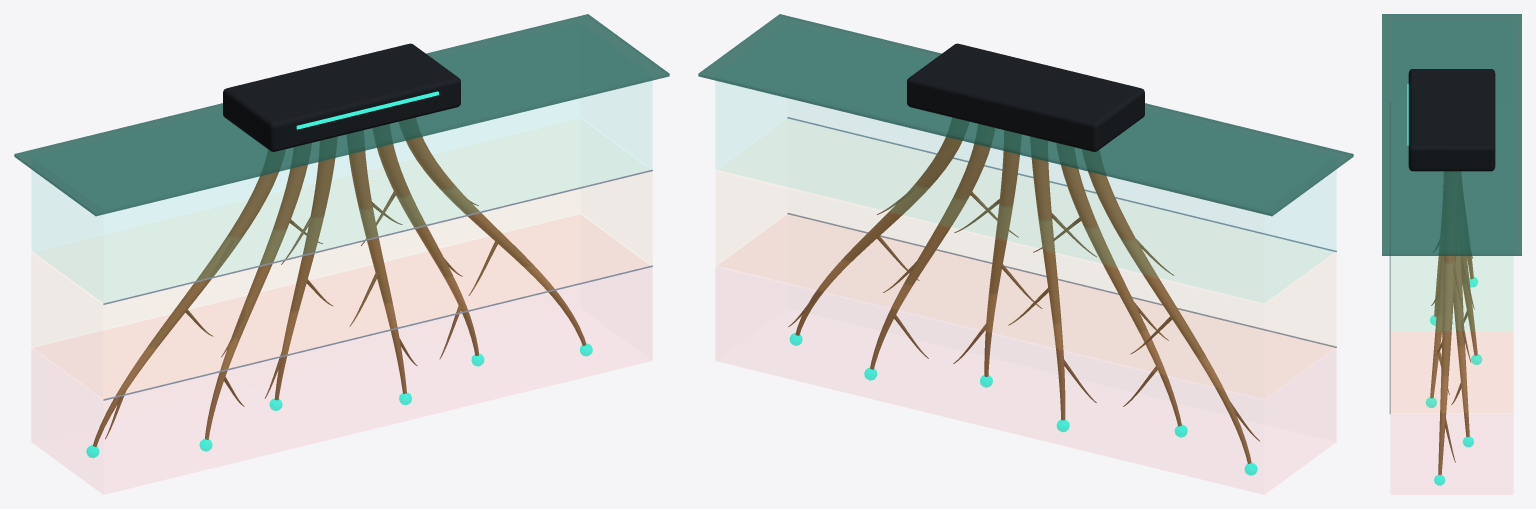
File: roots.glb
3 views of the same model, side by side, from view 1: azimuth 30°, elevation 25°; view 2: azimuth 150°, elevation 25°; view 3: azimuth 270°, elevation 25° (orthographic). The views are drawn at different scales.
Parts seen in each view (by area): view 1: Soil_Surface, Machine_Plinth, Root_00, Root_01, Root_05, Root_03, Root_02, Root_04, Soil_Line_02, Soil_Line_01; view 2: Soil_Surface, Machine_Plinth, Root_00, Root_01, Root_02, Root_04, Root_05, Root_03, Soil_Line_02, Soil_Line_01; view 3: Soil_Surface, Machine_Plinth, Root_05, Root_04, Root_03, Root_02, Root_00, Root_01.
Boxes of the visible parts, x1=… form: Soil_Surface: x1=14, y1=14, x2=669, y2=216; Machine_Plinth: x1=223, y1=43, x2=460, y2=151; Root_00: x1=93, y1=150, x2=284, y2=446; Root_01: x1=205, y1=143, x2=311, y2=439; Root_05: x1=399, y1=118, x2=586, y2=345; Root_03: x1=347, y1=131, x2=406, y2=393; Root_02: x1=274, y1=137, x2=336, y2=400; Root_04: x1=373, y1=124, x2=478, y2=355; Soil_Line_02: x1=103, y1=265, x2=652, y2=400; Soil_Line_01: x1=103, y1=169, x2=652, y2=304; Soil_Surface: x1=698, y1=14, x2=1353, y2=216; Machine_Plinth: x1=907, y1=43, x2=1144, y2=151; Root_00: x1=1082, y1=150, x2=1251, y2=463; Root_01: x1=1057, y1=143, x2=1181, y2=426; Root_02: x1=1030, y1=137, x2=1065, y2=420; Root_04: x1=870, y1=124, x2=994, y2=369; Root_05: x1=795, y1=118, x2=968, y2=335; Root_03: x1=984, y1=131, x2=1020, y2=376; Soil_Line_02: x1=787, y1=213, x2=1336, y2=347; Soil_Line_01: x1=787, y1=117, x2=1336, y2=251; Soil_Surface: x1=1382, y1=14, x2=1521, y2=255; Machine_Plinth: x1=1408, y1=69, x2=1495, y2=171; Root_05: x1=1438, y1=172, x2=1459, y2=474; Root_04: x1=1453, y1=193, x2=1469, y2=437; Root_03: x1=1430, y1=209, x2=1443, y2=398; Root_02: x1=1460, y1=184, x2=1477, y2=355; Root_00: x1=1461, y1=177, x2=1473, y2=279; Root_01: x1=1434, y1=209, x2=1442, y2=316.
Bounding box in the file's own units: 6.9 × 3.74 × 1.7.
